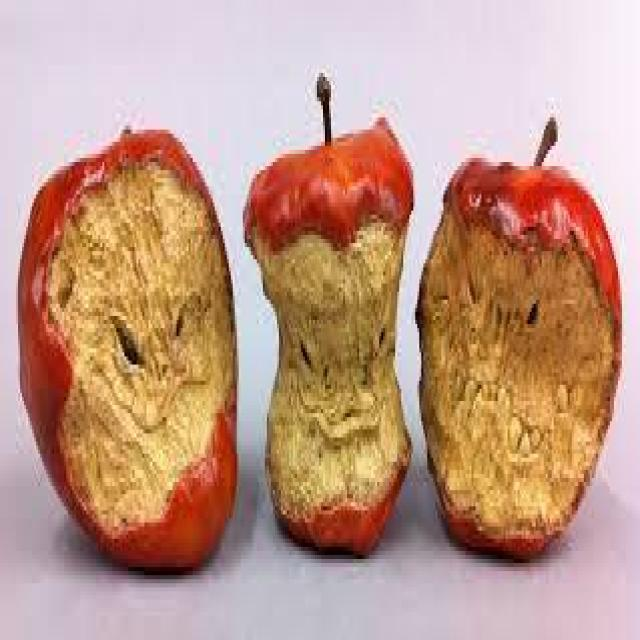maca: (16, 122, 239, 571), (413, 113, 622, 559), (241, 69, 413, 555)
